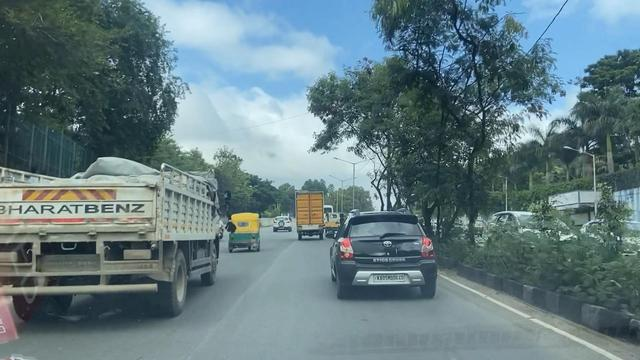HMV: (0, 164, 229, 308), (292, 188, 324, 237)
LMV: (332, 216, 442, 306), (230, 214, 261, 253)
